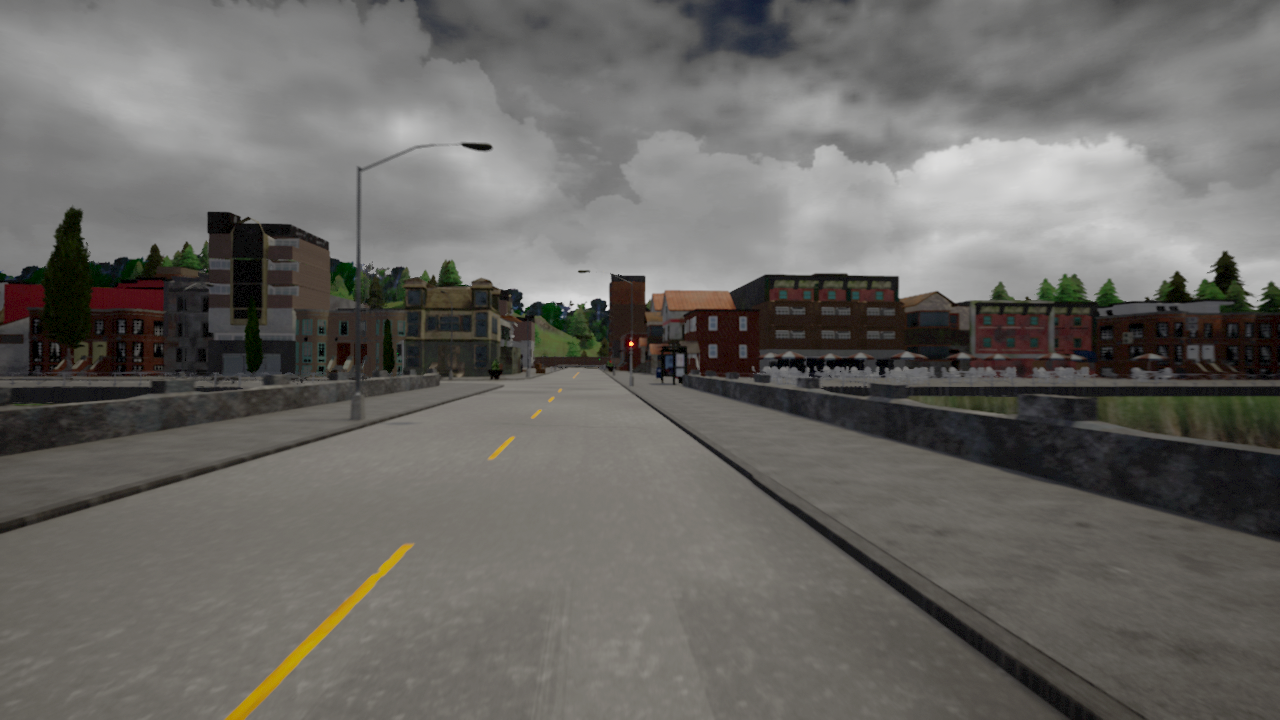red: (628, 341, 634, 356)
